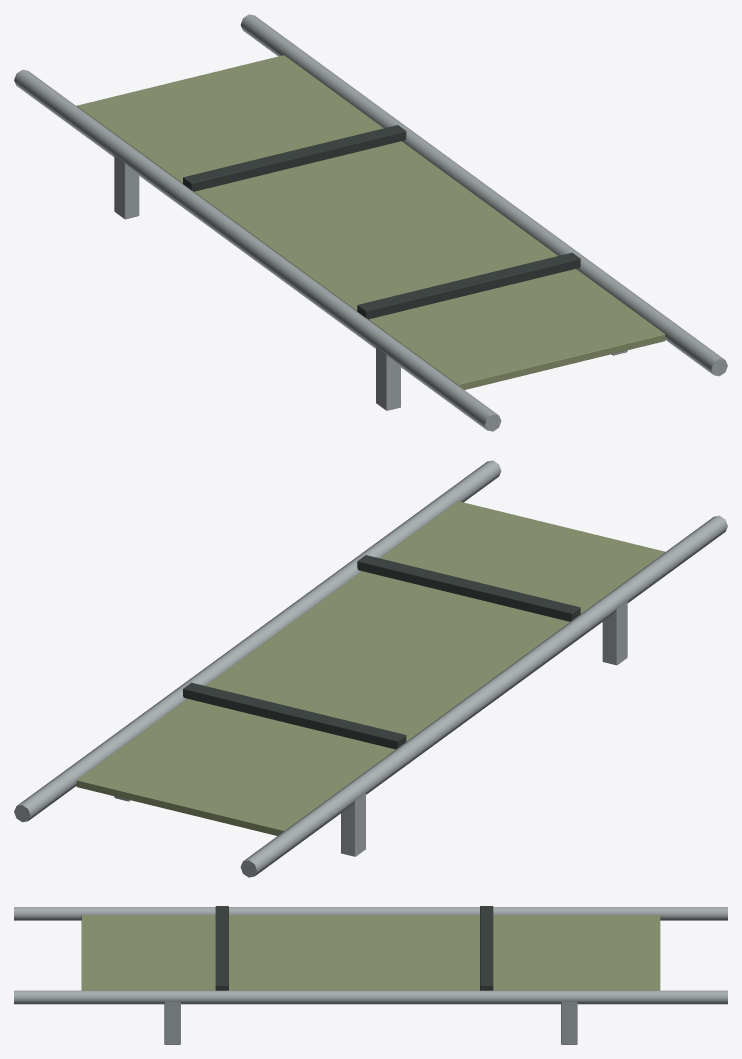
Rendered from field-medicine-and-recovery-folding-stretcher-11e1a5c2__3048.glb.
The picture shows the model from 3 angles, top to bottom: view 1: azimuth 30°, elevation 25°; view 2: azimuth 150°, elevation 25°; view 3: azimuth 270°, elevation 25°; orthographic projection. The views are drawn at different scales.
Parts seen in each view (by area): view 1: folding-stretcher; view 2: folding-stretcher; view 3: folding-stretcher.
Part boxes in pixels (box(x1,y1,x2,y2)): folding-stretcher: box(14, 14, 727, 431); folding-stretcher: box(14, 460, 727, 877); folding-stretcher: box(14, 906, 727, 1044).
Size of the model in its own units: 0.644 by 0.1829 by 2.16.
